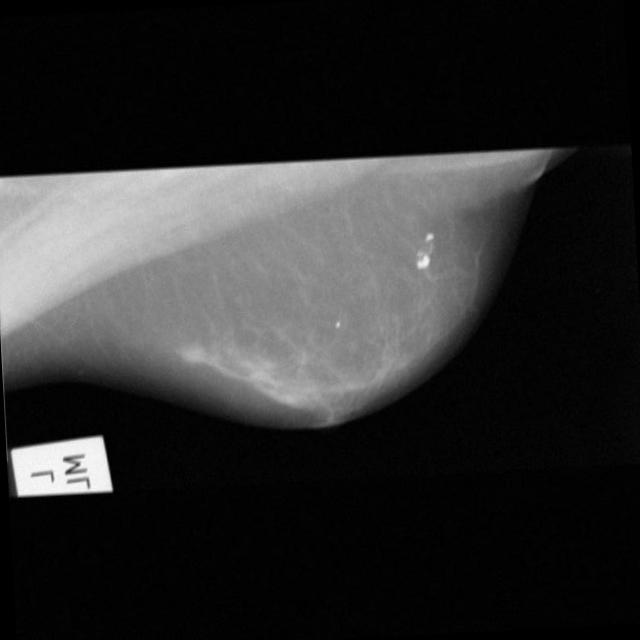ASYM: (179, 339, 208, 369)
